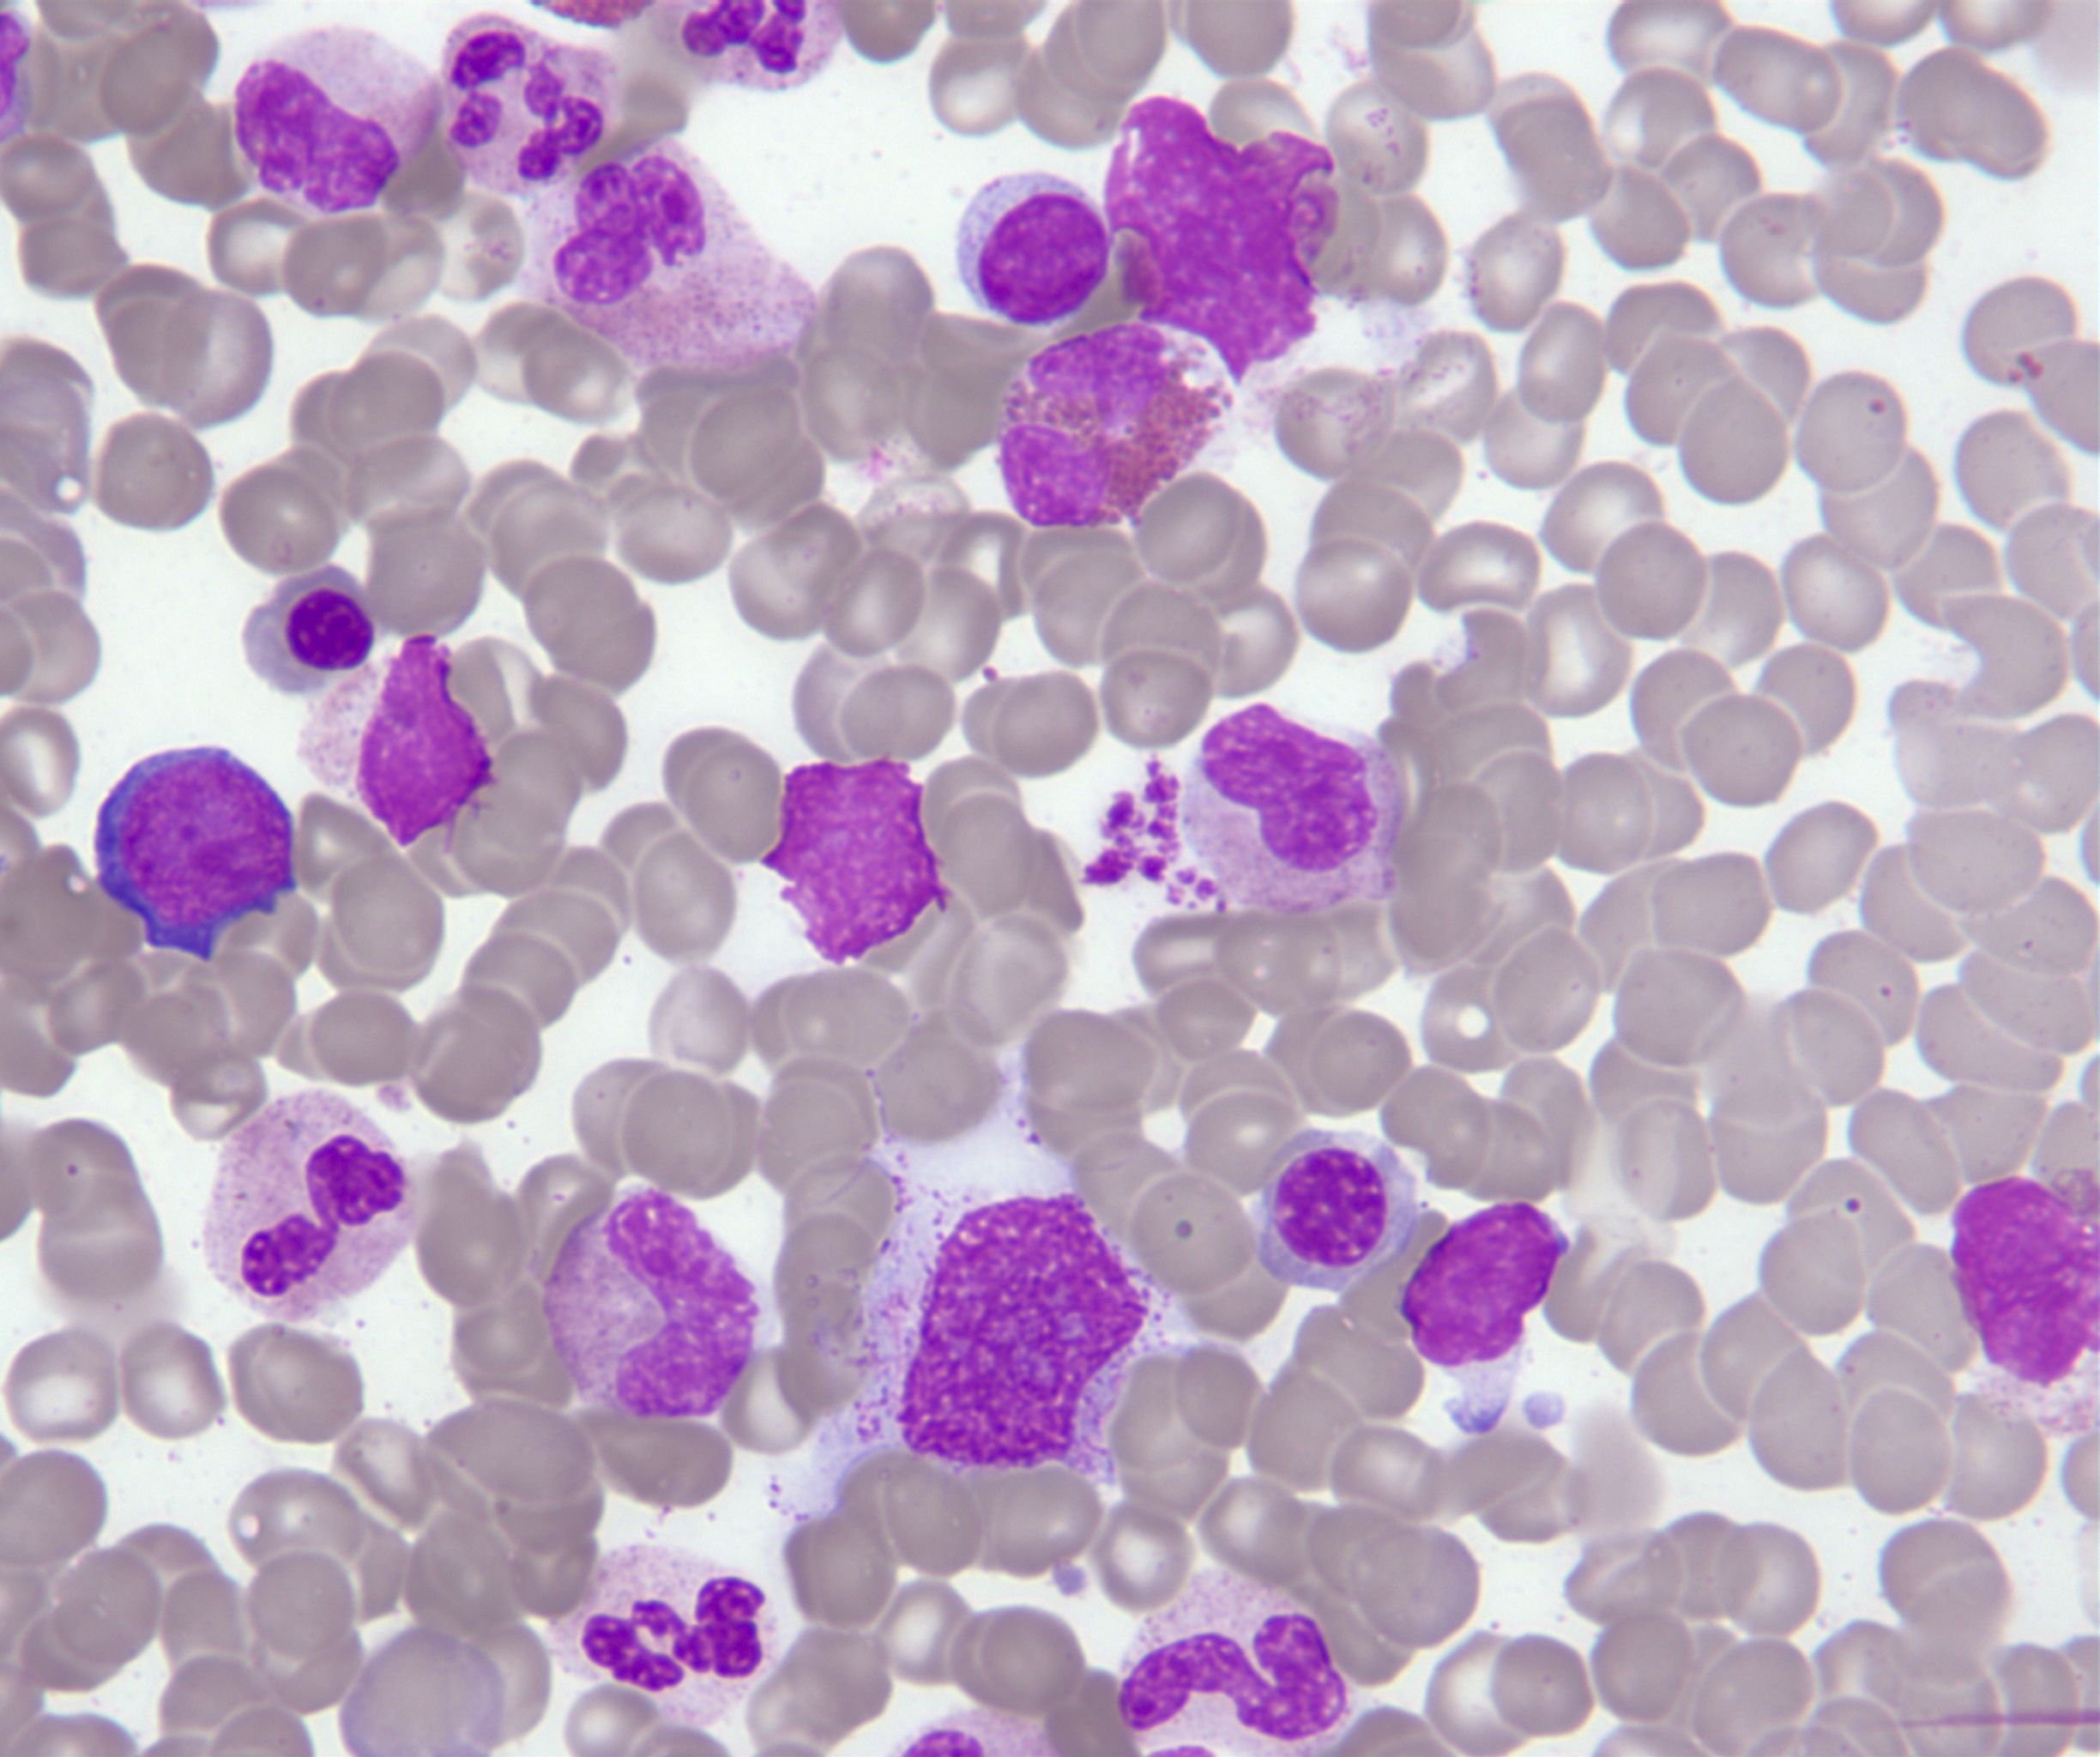21: (92, 743, 303, 967)
23: (1252, 1127, 1415, 1296), (239, 564, 378, 700)
32: (1397, 1192, 1575, 1375), (954, 169, 1115, 330)
4: (539, 1185, 766, 1424), (1176, 694, 1409, 920)
5: (1113, 1577, 1359, 1757), (230, 24, 445, 220)
6: (515, 129, 823, 379), (195, 1087, 426, 1328), (544, 1535, 785, 1731), (434, 10, 628, 204)
E4: (991, 318, 1240, 534)
x: (863, 1178, 1188, 1492), (295, 626, 495, 851), (755, 749, 952, 977), (1943, 1169, 2100, 1396)
